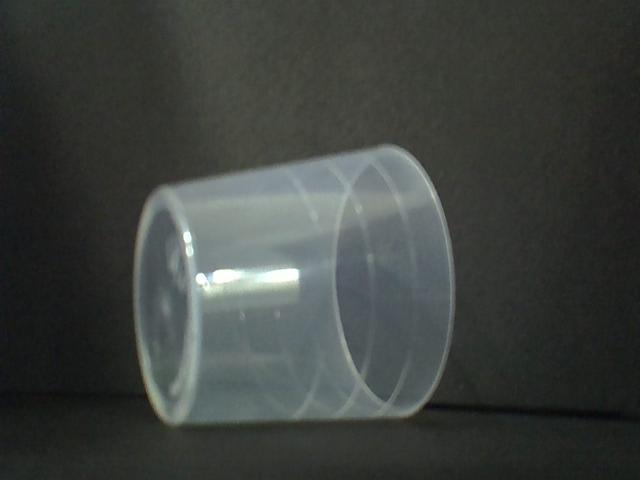cup: (130, 139, 457, 429)
